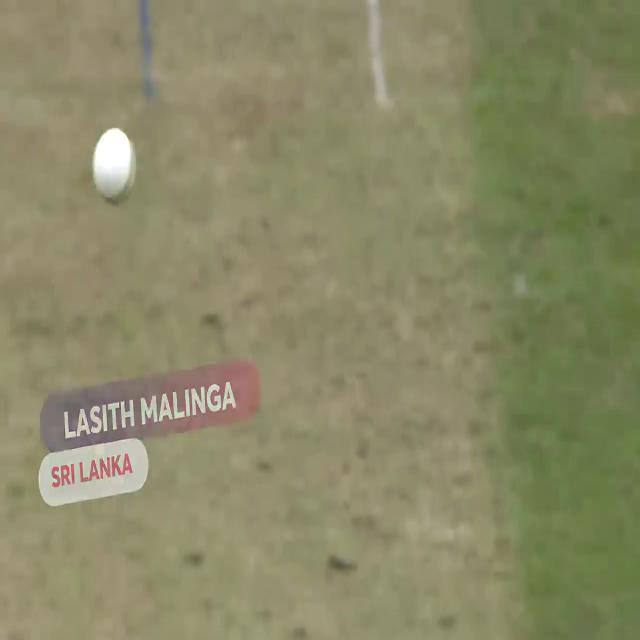ball: (88, 124, 140, 207)
